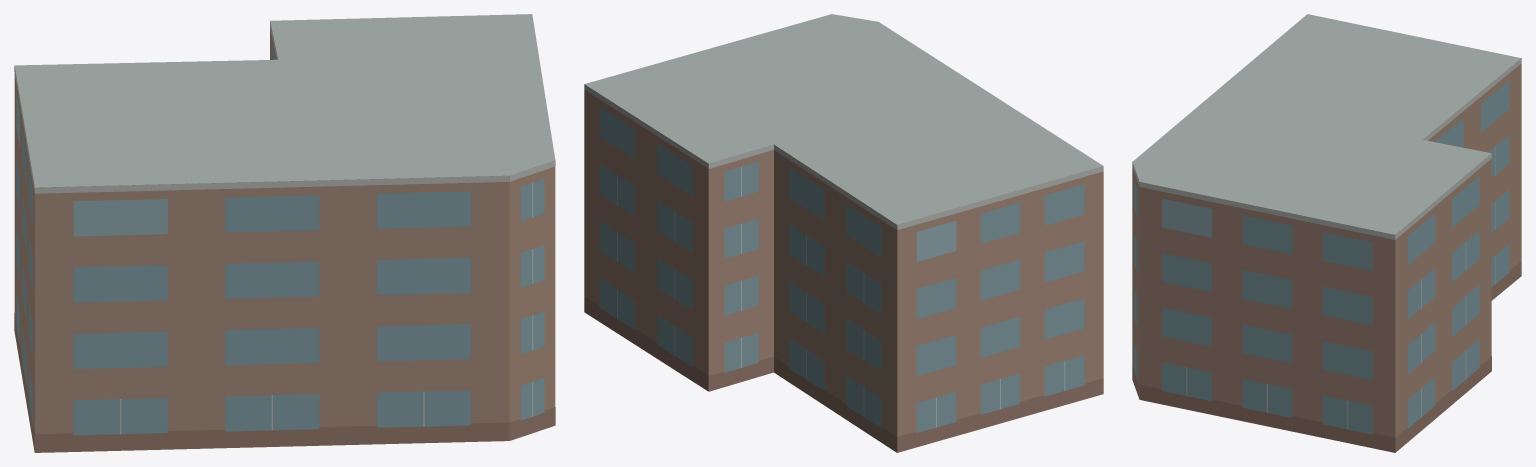
The model's file is survey-upis-33021851.glb.
The picture shows the model from 3 angles, left to right: view 1: azimuth 30°, elevation 25°; view 2: azimuth 150°, elevation 25°; view 3: azimuth 270°, elevation 25°; orthographic projection. The views are drawn at different scales.
Parts seen in each view (by area): view 1: survey-upis-33021851.tmp; view 2: survey-upis-33021851.tmp; view 3: survey-upis-33021851.tmp.
Boxes of the visible parts, x1,y1,x2,y2 form: survey-upis-33021851.tmp: (14, 14, 555, 452); survey-upis-33021851.tmp: (584, 14, 1103, 452); survey-upis-33021851.tmp: (1132, 14, 1521, 452).
Size of the model in its own units: 22.61 by 10.4 by 16.83.
